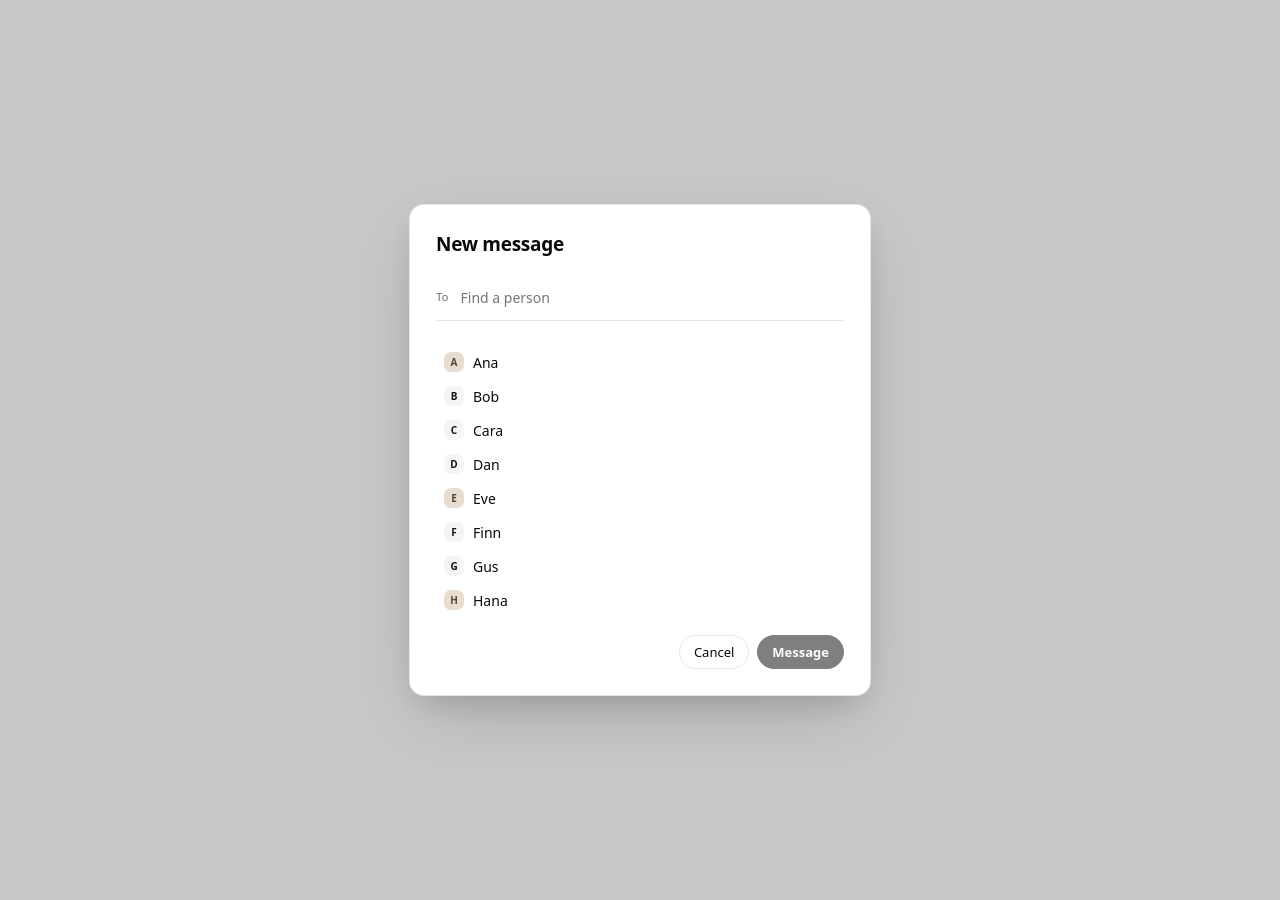
Test: the new message dialog › takes a name back off the list
Click the button "A Ana": (454, 362) [436,345,844,379]
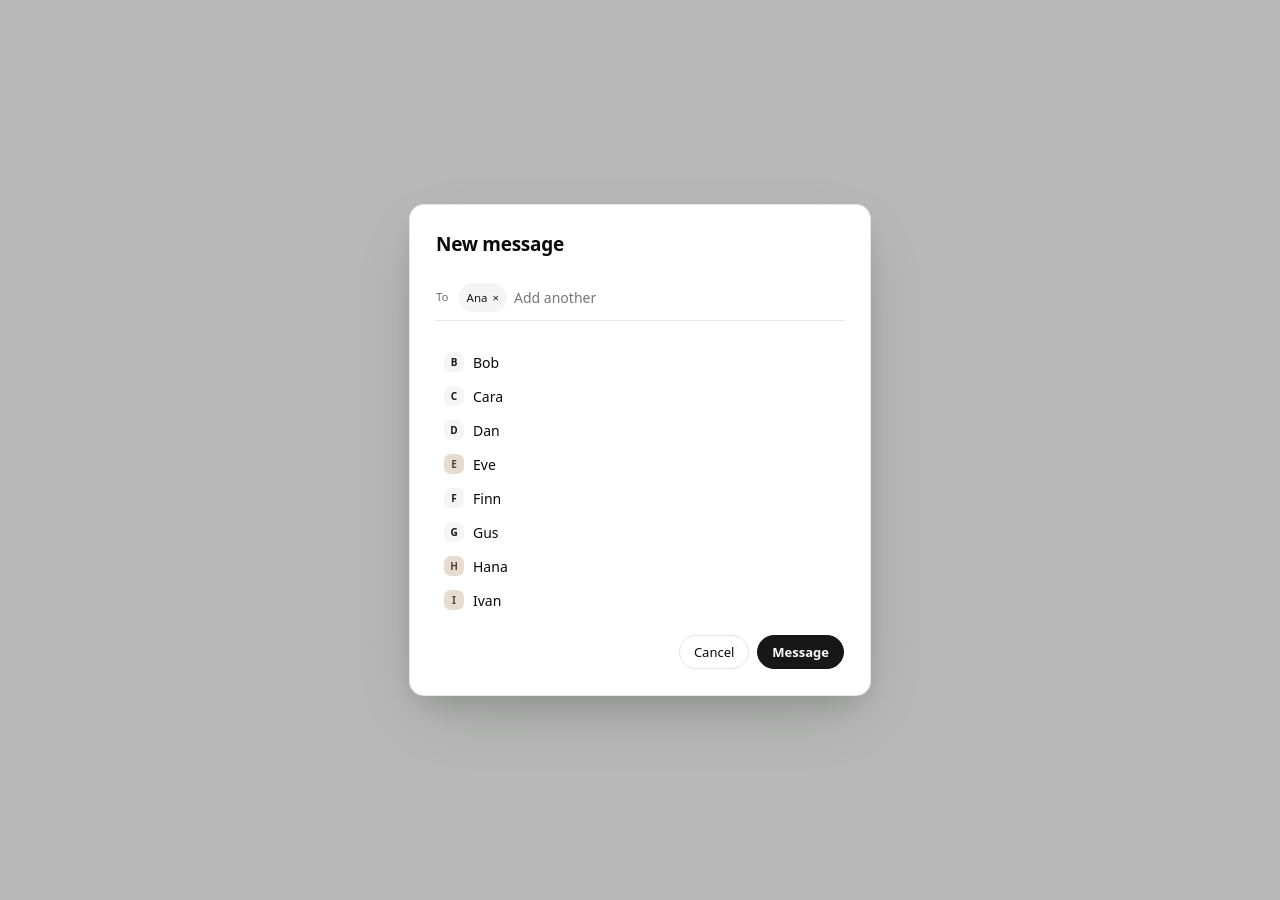
Click the button with aria-label "Remove Ana": (483, 298) [458,283,507,312]
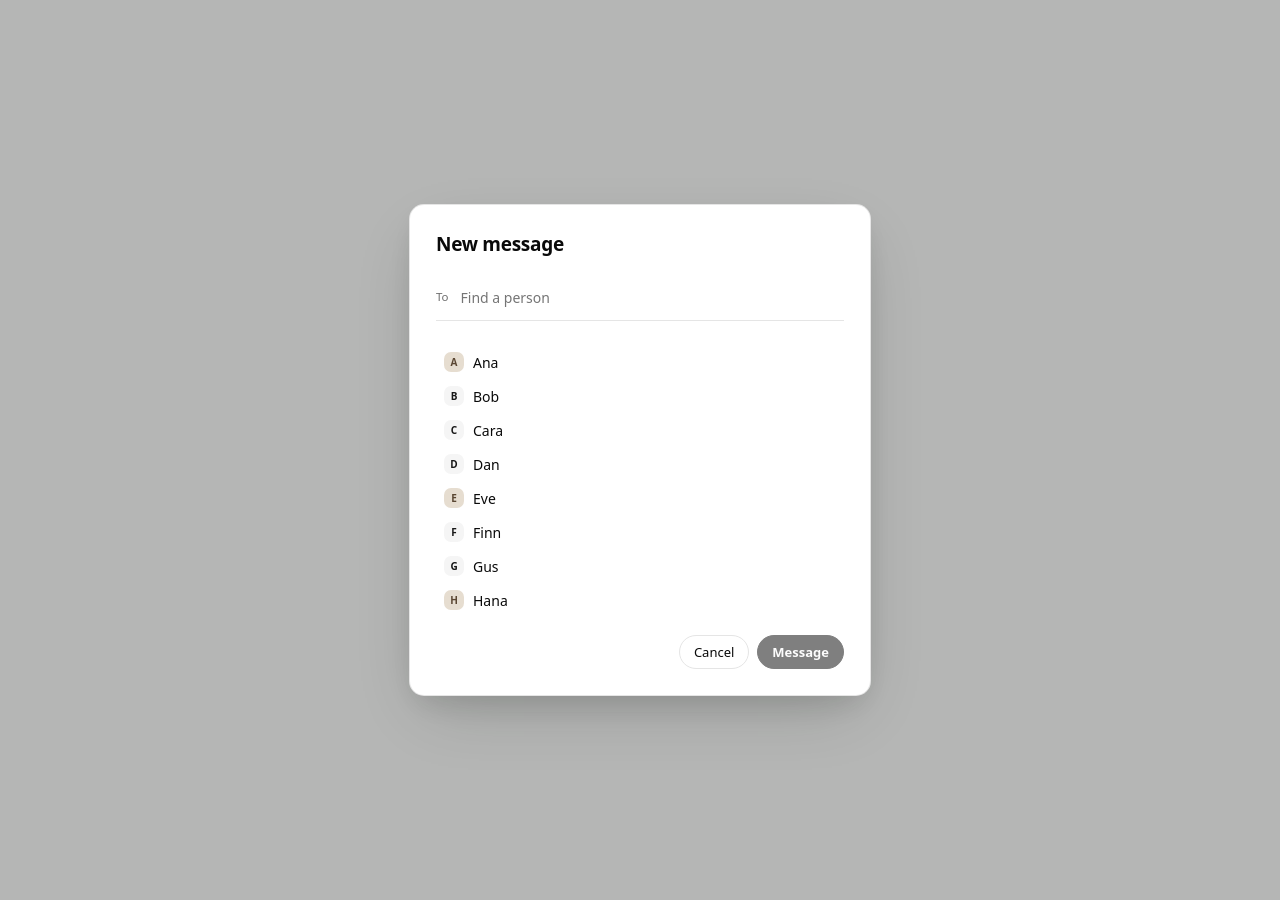
Result: the button "Message" is disabled at [757,635,844,669]
